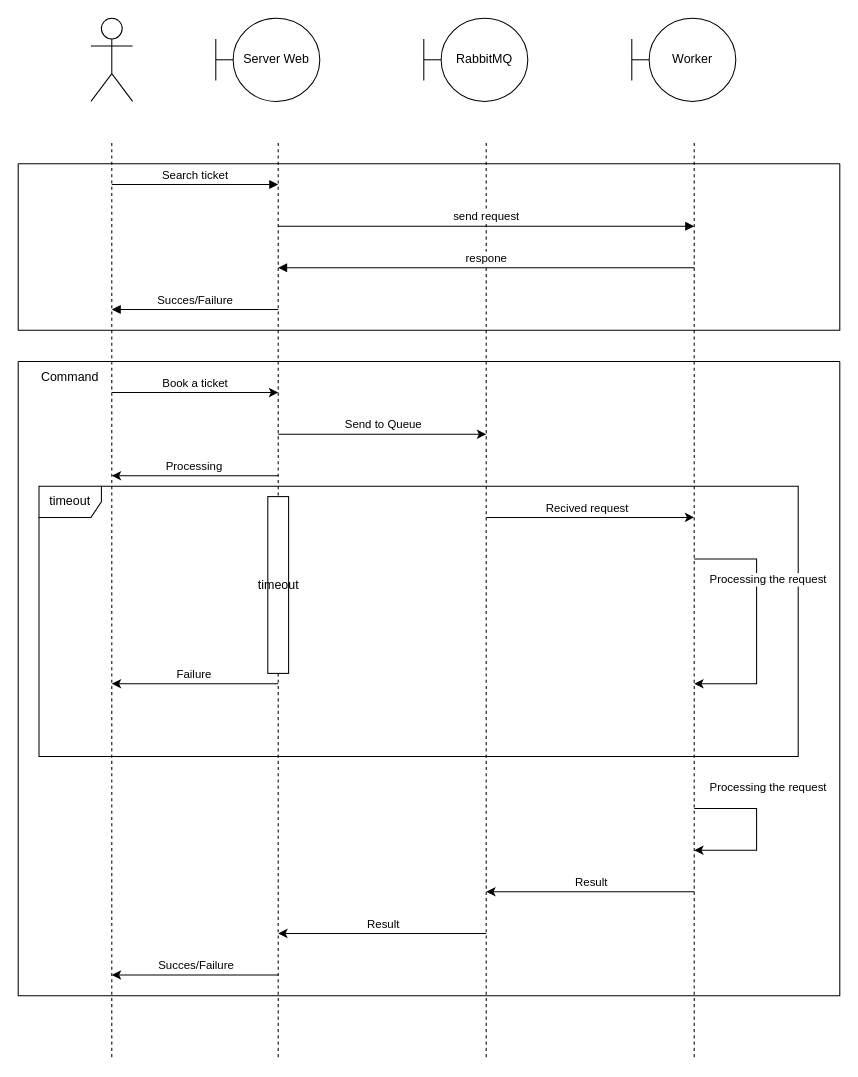
Image size: 858x1077. Some labels were removed from this diagram. The shapes that lost their labels are listed below. From the top down, each one's centre as x and y in pixels, then its label:
At [111,59]: "Client".
At [428,246]: "Query".
